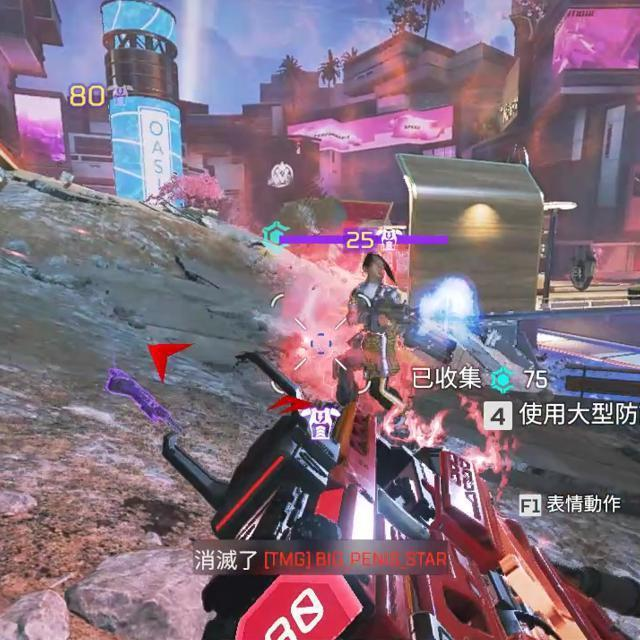avatar: (333, 250, 408, 409)
object: (415, 276, 481, 353)
